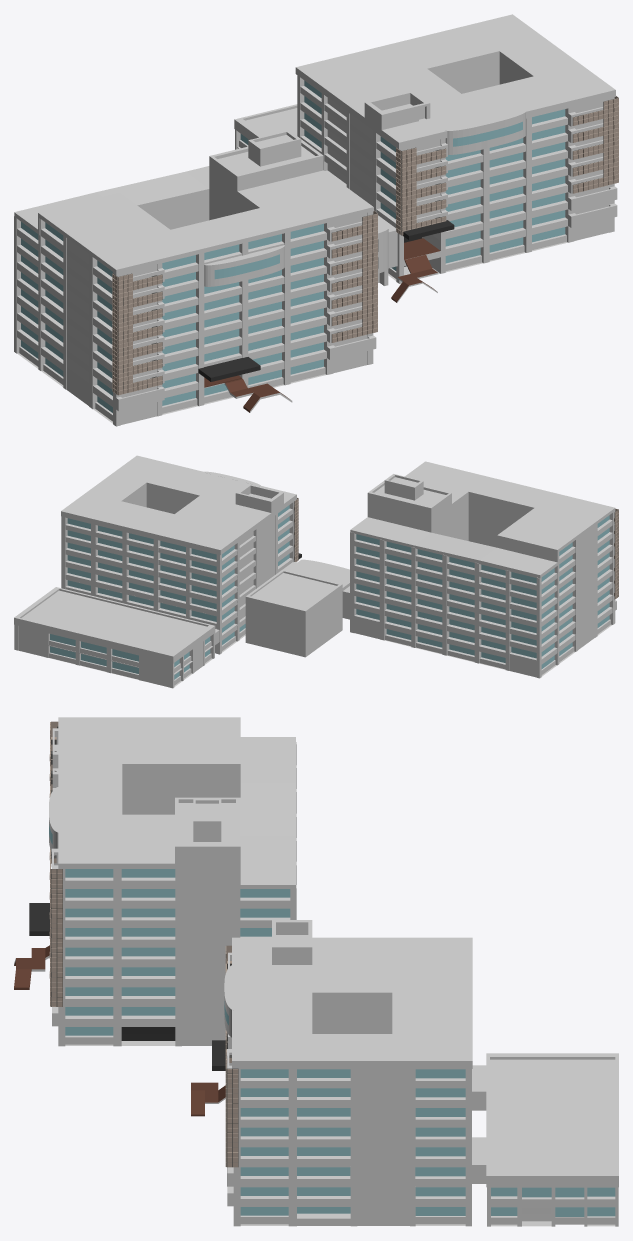
File: building_east_456.fbx
3 views of the same model, one above another, from view 1: azimuth 30°, elevation 25°; view 2: azimuth 150°, elevation 25°; view 3: azimuth 270°, elevation 25° (orthographic). The views are drawn at different scales.
Visible parts, largest first — view 1: 立方体.024, 立方体.023, 立方体.001, 立方体.019, 立方体, 立方体.022, 立方体.013, 立方体.015, 立方体.017, 立方体.002, 立方体.018, 立方体.020 (+34 smaller); view 2: 立方体.024, 立方体.023, 立方体.012, 立方体.007, 立方体.001, 立方体, 立方体.002, 立方体.013, 立方体.017, 立方体.015, 立方体.019, 立方体.018 (+11 smaller); view 3: 立方体.024, 立方体.023, 立方体.012, 立方体.006, 立方体.019, 立方体.022, 立方体.004, 立方体.014, 立方体.008, 立方体.003, 立方体.016, 立方体.021 (+12 smaller).
Part boxes in pixels (x1=…): 立方体.024: x1=14, y1=130, x2=373, y2=273; 立方体.023: x1=295, y1=14, x2=615, y2=149; 立方体.001: x1=14, y1=318, x2=376, y2=411; 立方体.019: x1=14, y1=216, x2=362, y2=303; 立方体: x1=14, y1=335, x2=373, y2=426; 立方体.022: x1=297, y1=75, x2=614, y2=161; 立方体.013: x1=14, y1=283, x2=362, y2=371; 立方体.015: x1=14, y1=267, x2=362, y2=354; 立方体.017: x1=14, y1=250, x2=362, y2=337; 立方体.002: x1=14, y1=301, x2=362, y2=388; 立方体.018: x1=14, y1=233, x2=362, y2=320; 立方体.020: x1=40, y1=211, x2=373, y2=287; 立方体.024: x1=350, y1=461, x2=615, y2=578; 立方体.023: x1=61, y1=455, x2=296, y2=555; 立方体.012: x1=14, y1=587, x2=215, y2=663; 立方体.007: x1=245, y1=559, x2=349, y2=657; 立方体.001: x1=350, y1=599, x2=616, y2=665; 立方体: x1=350, y1=611, x2=615, y2=678; 立方体.002: x1=350, y1=586, x2=614, y2=653; 立方体.013: x1=350, y1=574, x2=614, y2=640; 立方体.017: x1=350, y1=549, x2=614, y2=615; 立方体.015: x1=350, y1=561, x2=614, y2=628; 立方体.019: x1=350, y1=524, x2=614, y2=590; 立方体.018: x1=350, y1=536, x2=614, y2=602; 立方体.024: x1=58, y1=717, x2=295, y2=888; 立方体.023: x1=232, y1=920, x2=472, y2=1068; 立方体.012: x1=486, y1=1053, x2=618, y2=1187; 立方体.006: x1=212, y1=1040, x2=471, y2=1186; 立方体.019: x1=49, y1=742, x2=296, y2=908; 立方体.022: x1=224, y1=952, x2=471, y2=1088; 立方体.004: x1=227, y1=1175, x2=471, y2=1206; 立方体.014: x1=228, y1=1034, x2=471, y2=1146; 立方体.008: x1=238, y1=1146, x2=471, y2=1166; 立方体.003: x1=233, y1=1206, x2=471, y2=1226; 立方体.016: x1=238, y1=1107, x2=471, y2=1127; 立方体.021: x1=238, y1=1087, x2=471, y2=1107.
Size of what is drawn, in the model's own units: 6705 by 2077 by 5222.
